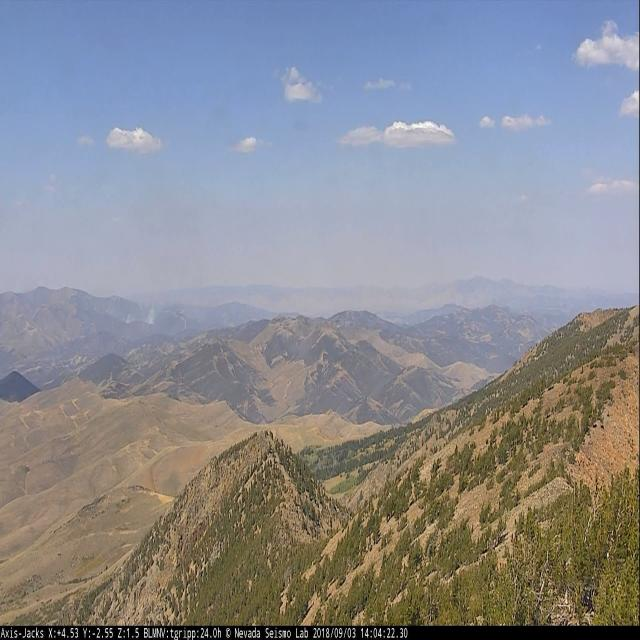smoke: (125, 301, 157, 327)
